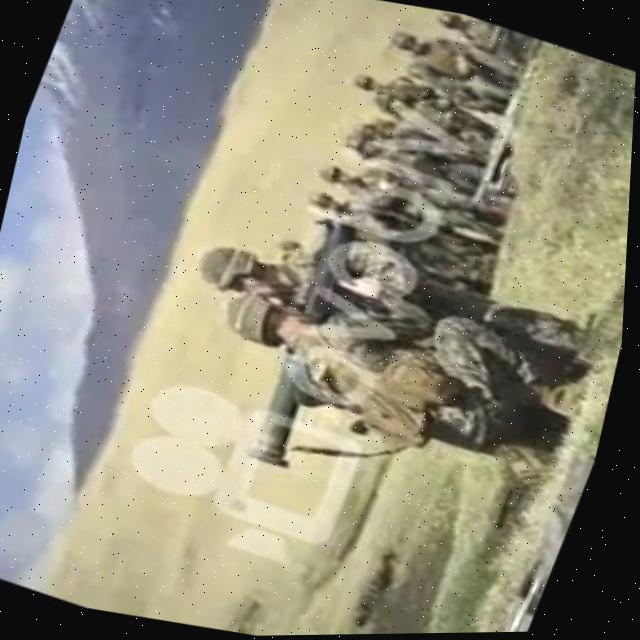rocket: (230, 208, 384, 478)
